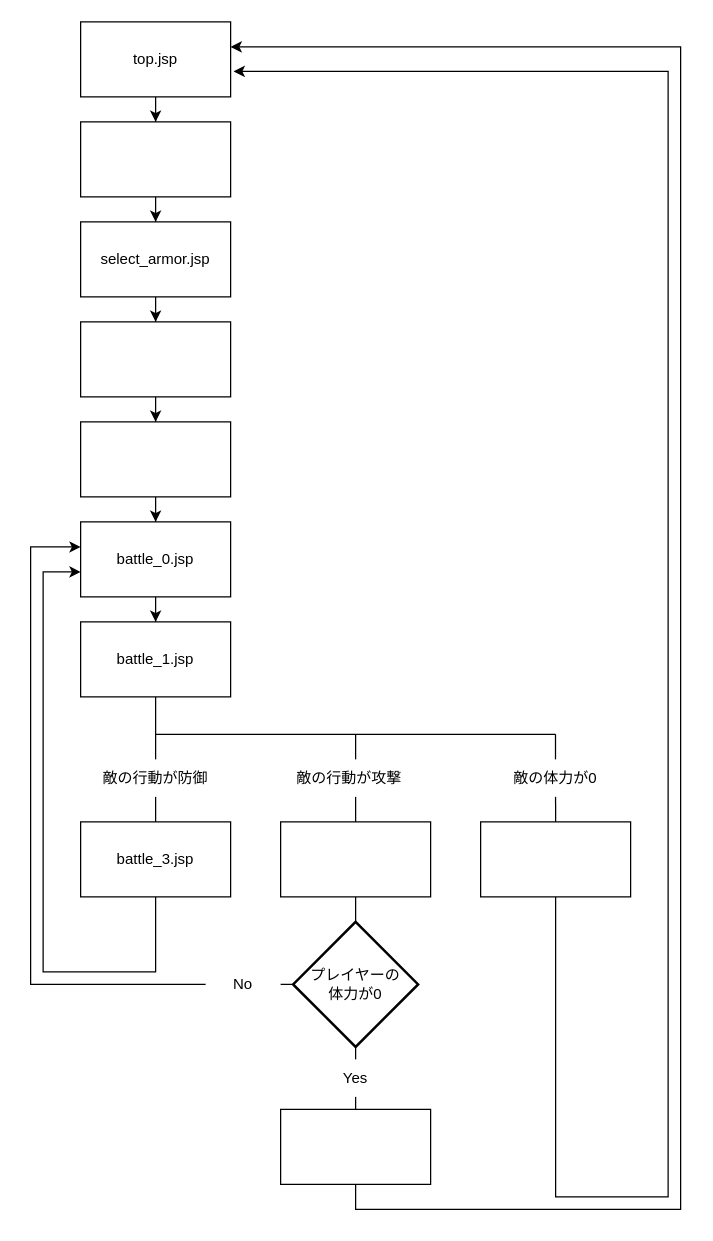
The diagram is 713 pixels wide and 1241 high, and some of its shapes have lost their labels. The shapes that lost their labels are listed below. From the top down, each one's box as (x1, y1, x2, y2) in pixels, then its label:
(79, 121, 231, 197): select_weapon.jsp
(79, 321, 231, 397): select_monster.jsp
(79, 421, 231, 497): battle_start.jsp
(279, 821, 431, 897): battle_2.jsp
(479, 821, 631, 897): battle_5.jsp(勝利)
(279, 1108, 431, 1184): battle_4.jsp(敗北)
